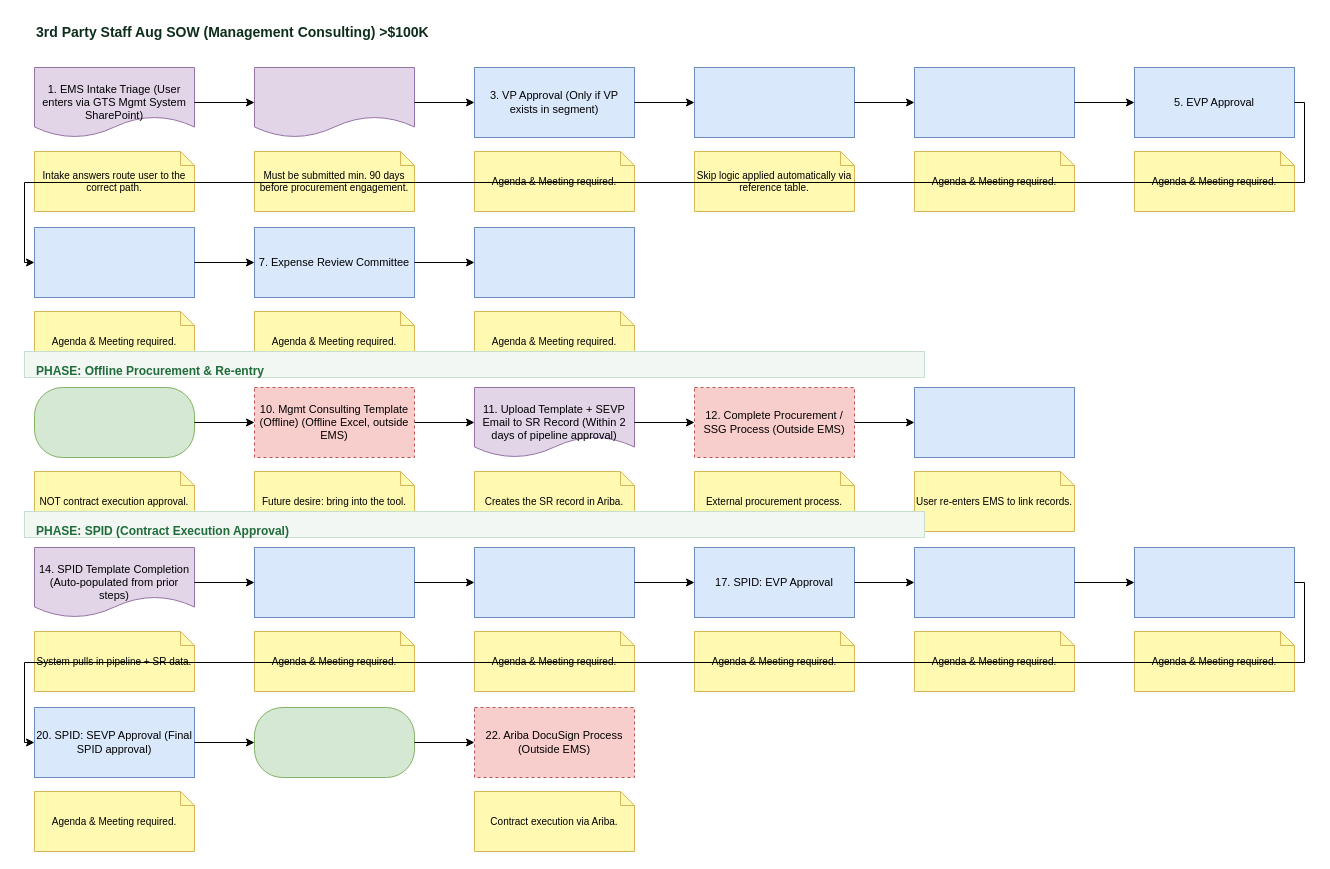
Image size: 1330x869. Some labels were removed from this diagram. Each missing label, with the centre of its shape:
"13. Return to EMS: Enter Pipeline # and SR #" belongs at pixel 994 422.
"15. SPID: VP Approval" belongs at pixel 334 582.
"16. SPID: SVP Approval" belongs at pixel 554 582.
"18. SPID: FinAVP Approval" belongs at pixel 994 582.
"19. SPID: Expense Review Committee" belongs at pixel 1214 582.
"2. Pipeline Intake Submission (Spend > $100K + Mgmt Consulting)" belongs at pixel 334 102.
"21. SPID Record Closed" belongs at pixel 334 742.
"3a. Skip VP -> SVP (If no VP exists in segment)" belongs at pixel 774 102.
"4. SVP Approval" belongs at pixel 994 102.
"6. FinAVP / FinEVP Approval" belongs at pixel 114 262.
"8. SEVP Approval (Final pipeline approval)" belongs at pixel 554 262.
"9. Pipeline Closed" belongs at pixel 114 422.
